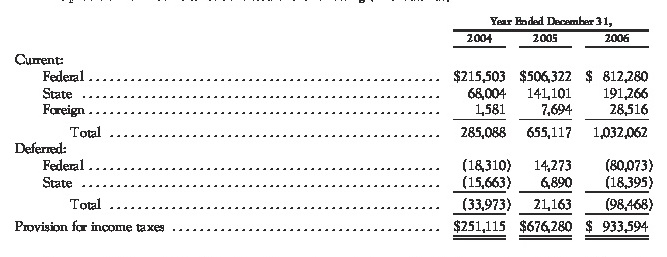table: (0, 0, 667, 257)
